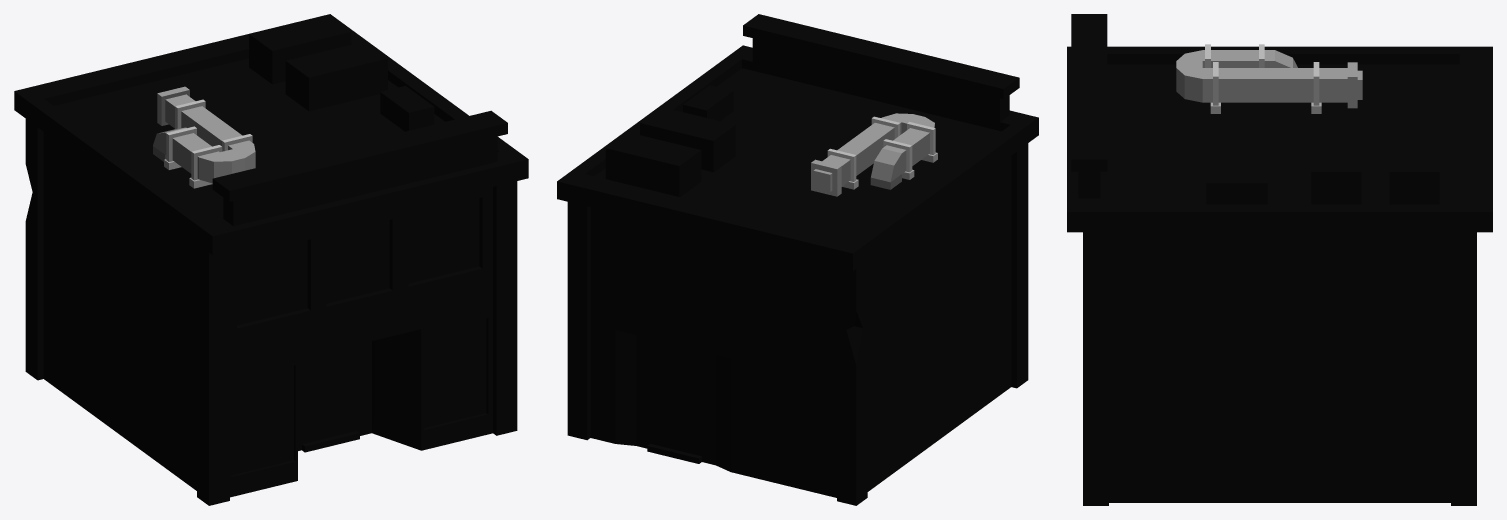
Rendered from SA_Bld_ShopSmall_Damaged_01.gltf.
3 renders of one model, left to right at view 1: azimuth 30°, elevation 25°; view 2: azimuth 150°, elevation 25°; view 3: azimuth 270°, elevation 25°, orthographic. The views are drawn at different scales.
Visible parts, largest first — view 1: SA_Bld_ShopSmall_Damaged_01; view 2: SA_Bld_ShopSmall_Damaged_01; view 3: SA_Bld_ShopSmall_Damaged_01.
Part boxes in pixels (<box>): SA_Bld_ShopSmall_Damaged_01: <box>14,14,528,505</box>; SA_Bld_ShopSmall_Damaged_01: <box>557,14,1038,505</box>; SA_Bld_ShopSmall_Damaged_01: <box>1067,14,1492,505</box>.
Bounding box in the file's own units: 10.92 × 10.41 × 11.88.
1 material, 1 textured.
